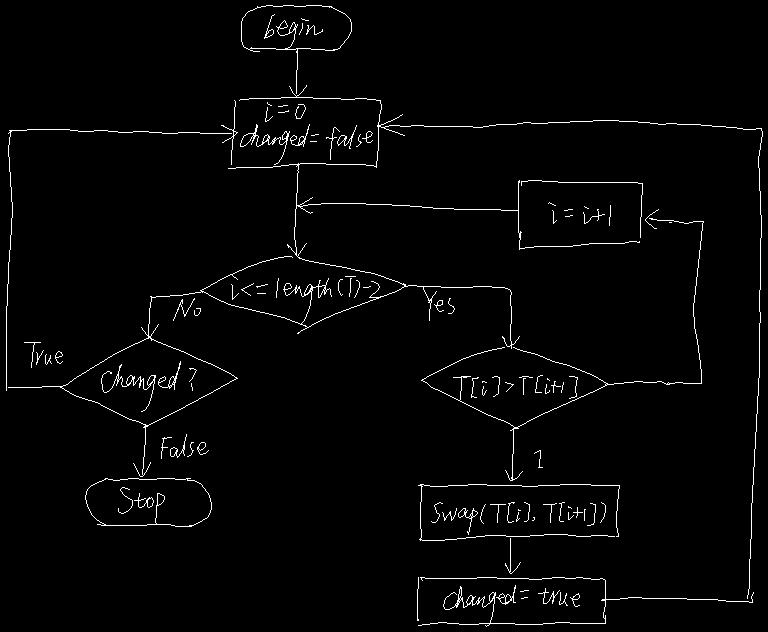arrow: (377, 114, 762, 602), (6, 125, 237, 390), (605, 209, 703, 384), (403, 283, 519, 348), (297, 197, 518, 213), (141, 291, 203, 337), (287, 163, 306, 256), (133, 424, 150, 476), (505, 428, 522, 480), (289, 49, 306, 96), (505, 538, 520, 573)
decision: (59, 337, 237, 427), (200, 256, 405, 333), (421, 347, 608, 430)
process: (418, 484, 619, 540), (228, 97, 381, 168), (417, 577, 605, 625), (518, 180, 642, 249)
terminator: (85, 478, 211, 526), (241, 5, 351, 51)
text: (240, 102, 372, 164), (231, 274, 382, 323), (443, 585, 579, 626), (431, 502, 605, 534), (101, 361, 196, 411), (453, 375, 577, 399), (264, 14, 322, 48), (118, 487, 164, 524), (548, 202, 610, 225), (161, 434, 208, 458), (423, 287, 454, 320), (24, 342, 62, 367), (173, 298, 200, 320), (534, 450, 542, 467)
